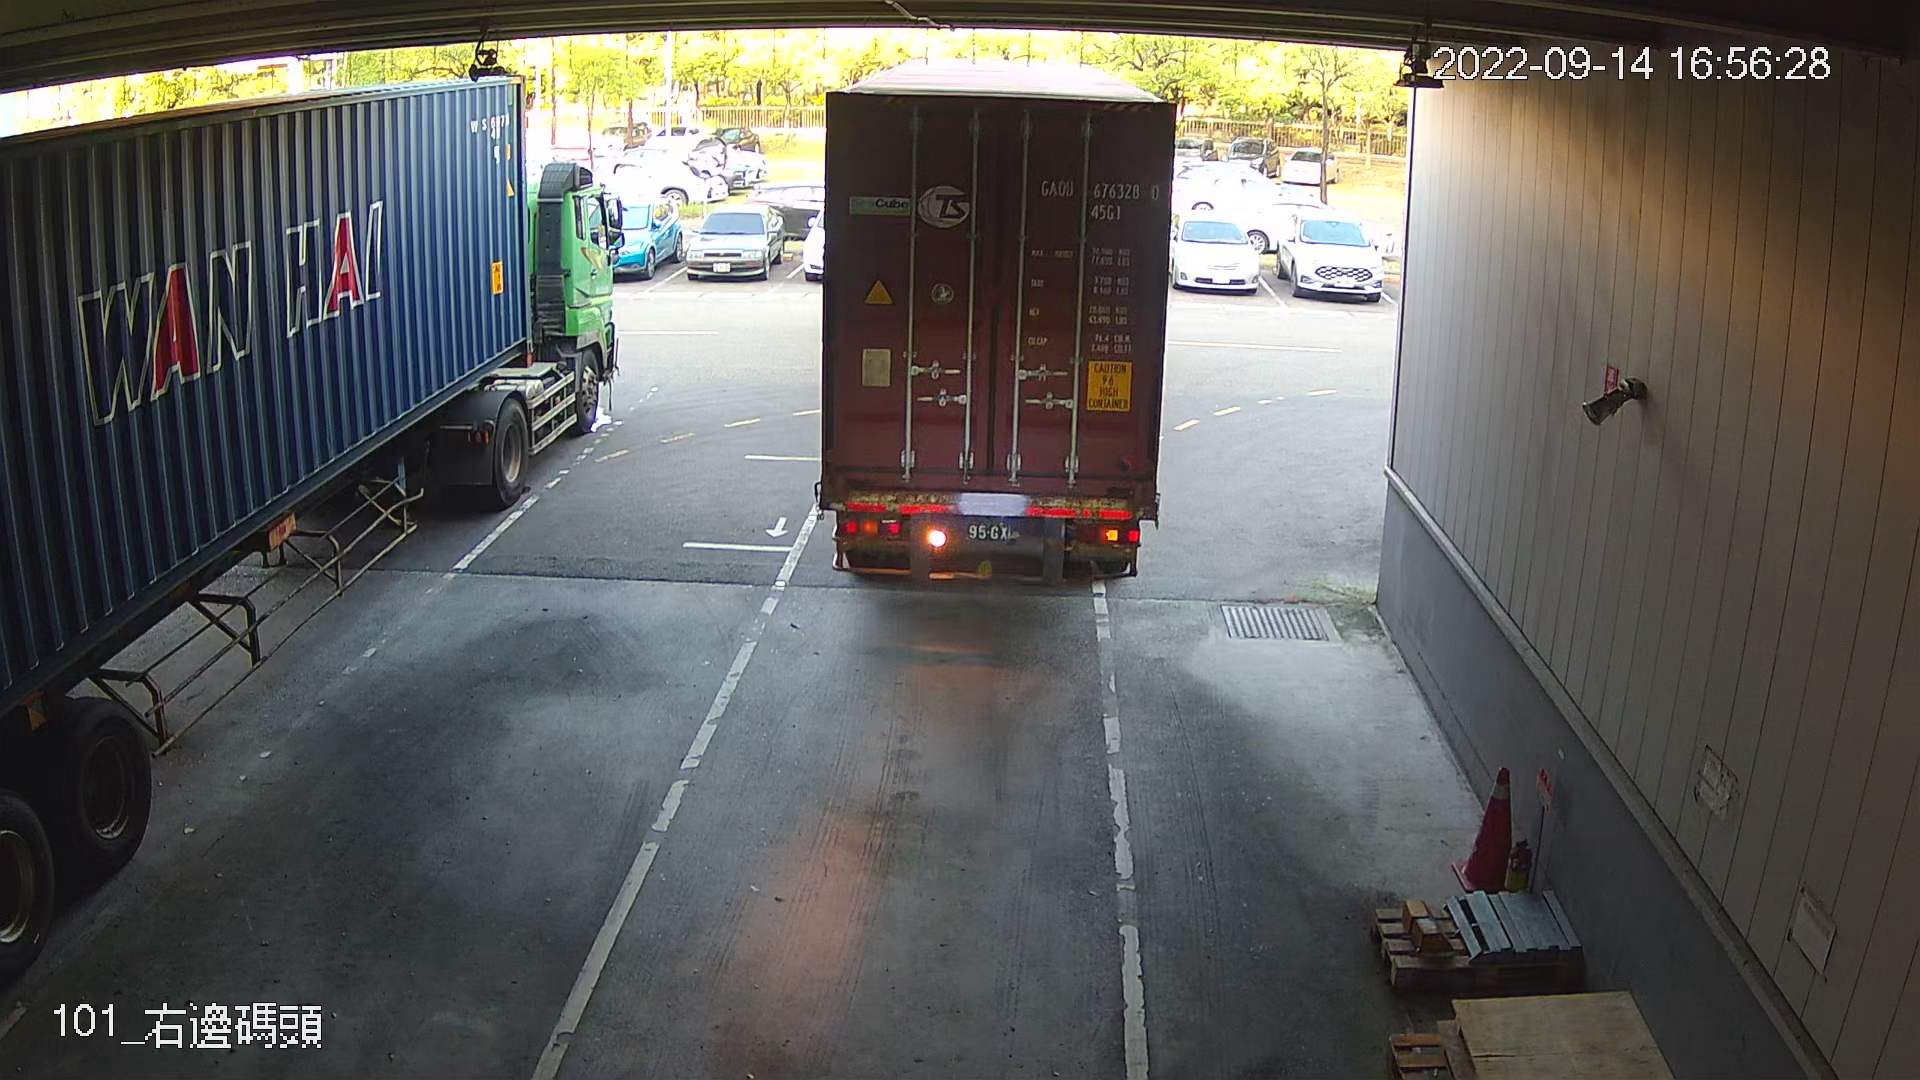container: (1033, 170, 1166, 229)
